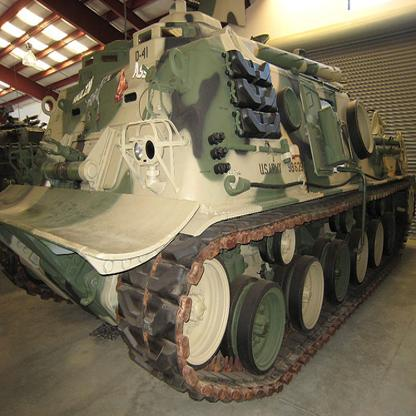Tank: (1, 15, 416, 411)
